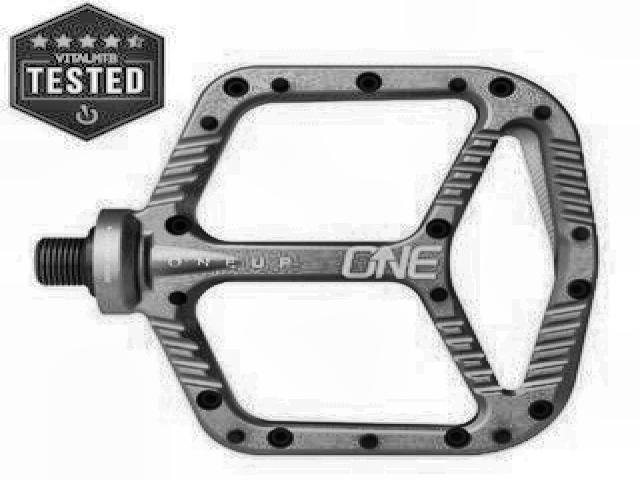pedal: (35, 60, 605, 469)
